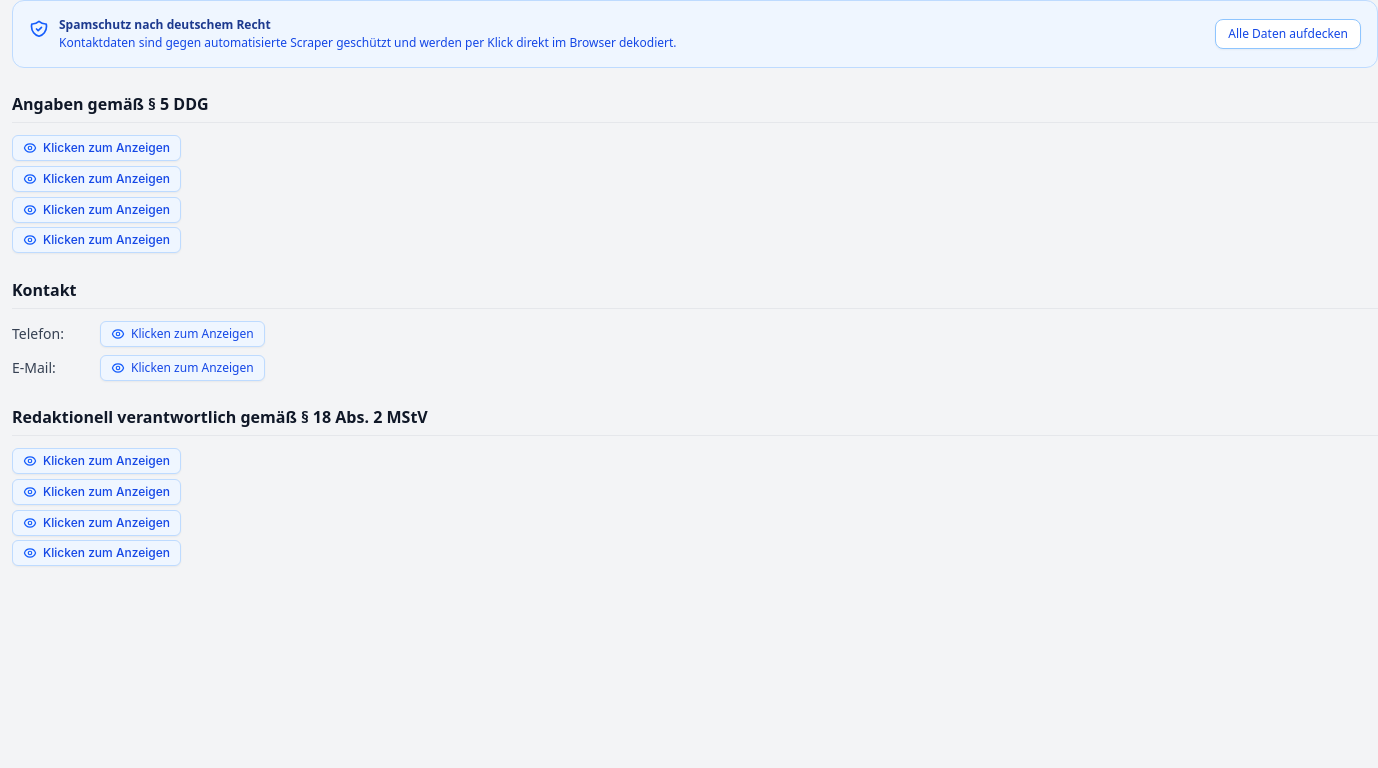
Test: Legal Components › ImpressumContent › renders section headings and reveals all data when button is clicked
The image size is (1378, 768).
Expected: the heading "Angaben gemäß § 5 DDG" is shown, [12,92,1377,123]
Expected: the heading "Kontakt" is shown, [12,278,1377,309]
What coordinates should you click on to do the following:
click the button "Alle Daten aufdecken"
I would click on:
 (1288, 34)
Its box is [1215,19,1361,49].
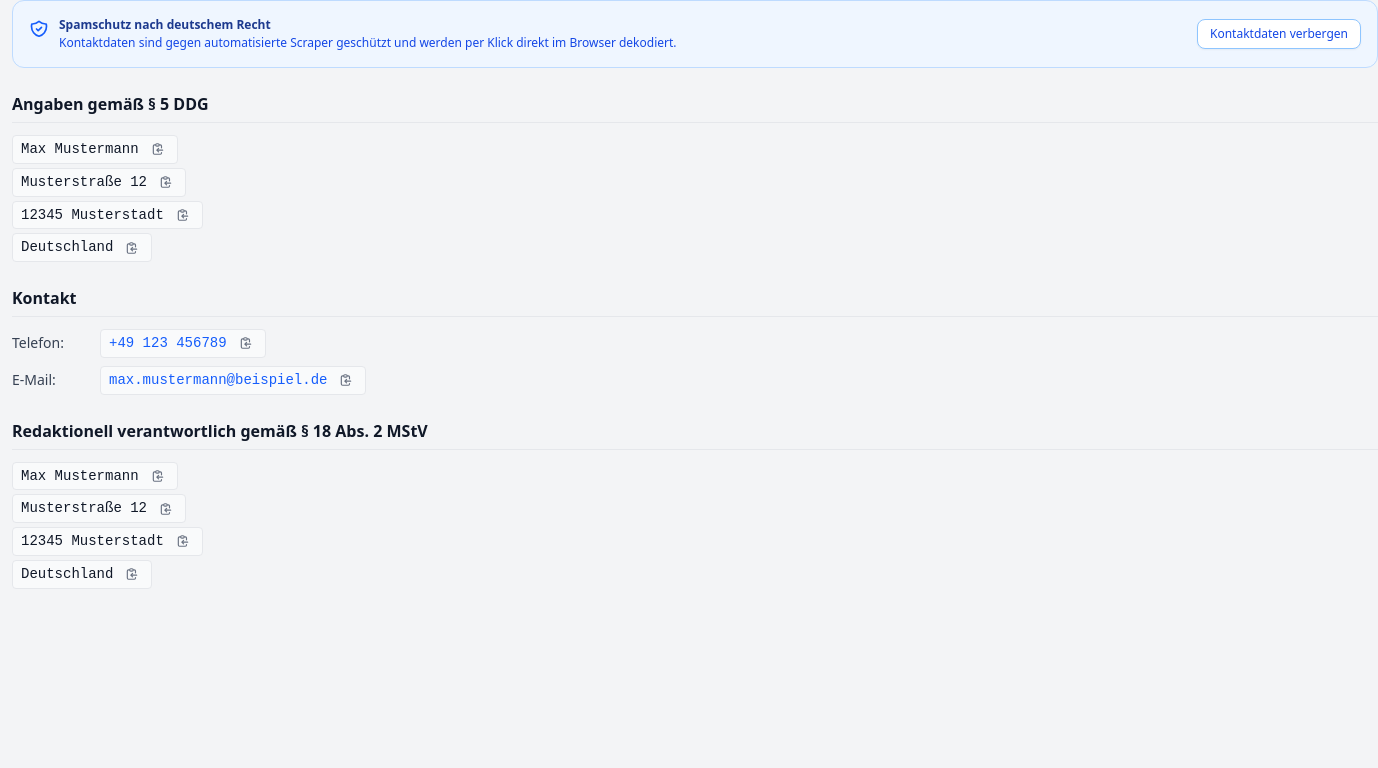
Now the text "Max Mustermann" below "Angaben gemäß § 5 DDG" is shown, box [21,141,139,157]
Now the link "max.mustermann@beispiel.de" is shown, box [109,369,327,392]
